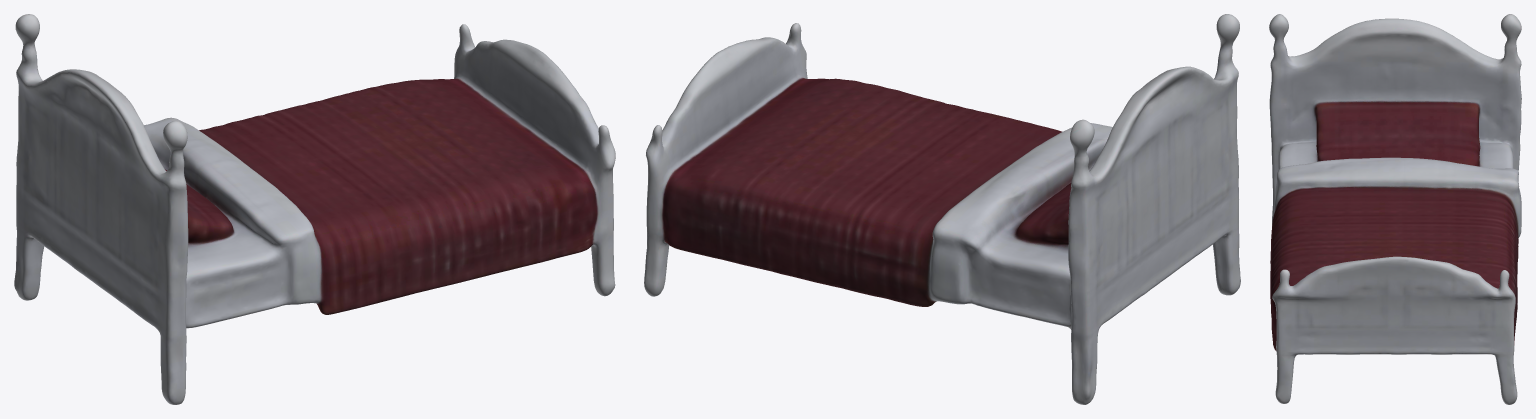
Rendered from b109c49b1413_bed__3d_asset_0_glb.fbx.
3 renders of one model, left to right at view 1: azimuth 30°, elevation 25°; view 2: azimuth 150°, elevation 25°; view 3: azimuth 270°, elevation 25°, orthographic. The views are drawn at different scales.
Visible parts, largest first — view 1: high_poly; view 2: high_poly; view 3: high_poly.
Boxes of the visible parts, x1,y1,x2,y2 form: high_poly: (14, 14, 615, 404); high_poly: (644, 14, 1240, 404); high_poly: (1269, 14, 1521, 404).
Bounding box in the file's own units: 100 × 59.86 × 61.01.
